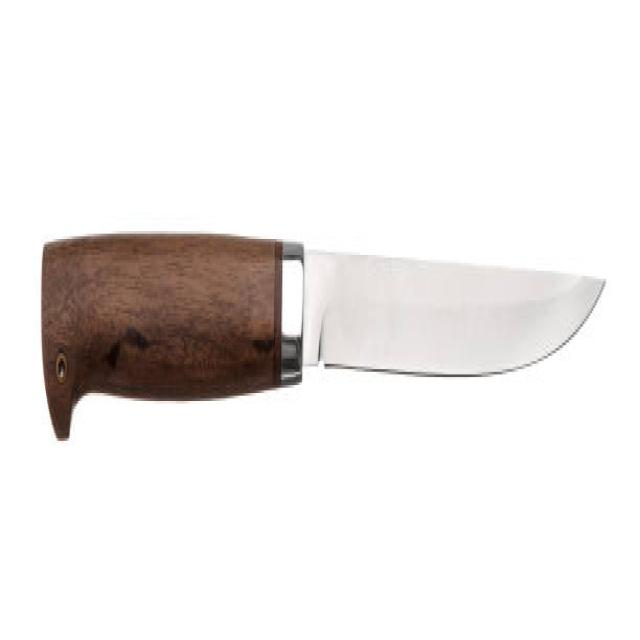knife: (42, 224, 612, 462)
